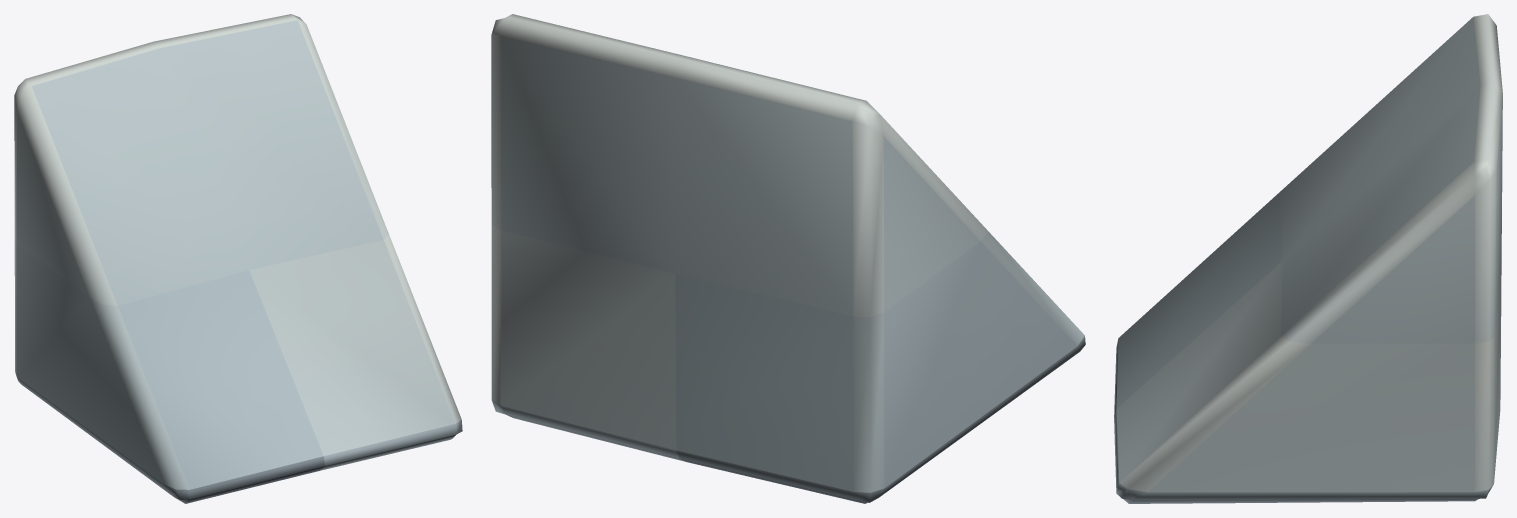
File: Quartz_2x2_Slope_Straight.fbx
3 renders of one model, left to right at view 1: azimuth 30°, elevation 25°; view 2: azimuth 150°, elevation 25°; view 3: azimuth 270°, elevation 25°, orthographic. The views are drawn at different scales.
Parts seen in each view (by area): view 1: Quartz_2x2_Slope_Straight_LOD0; view 2: Quartz_2x2_Slope_Straight_LOD0; view 3: Quartz_2x2_Slope_Straight_LOD0.
Part boxes in pixels (left/top/right/bottom): Quartz_2x2_Slope_Straight_LOD0: left=14, top=14, right=462, bottom=503; Quartz_2x2_Slope_Straight_LOD0: left=491, top=14, right=1085, bottom=503; Quartz_2x2_Slope_Straight_LOD0: left=1114, top=14, right=1502, bottom=503.
Size of what is drawn, in the model's own units: 1.04 by 1.06 by 1.07.
